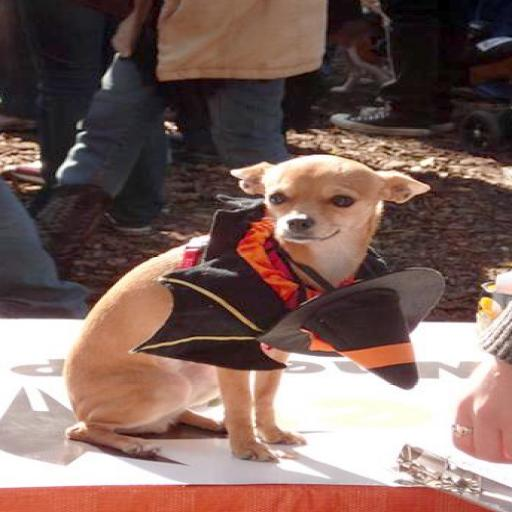dog_face: (233, 154, 414, 252)
